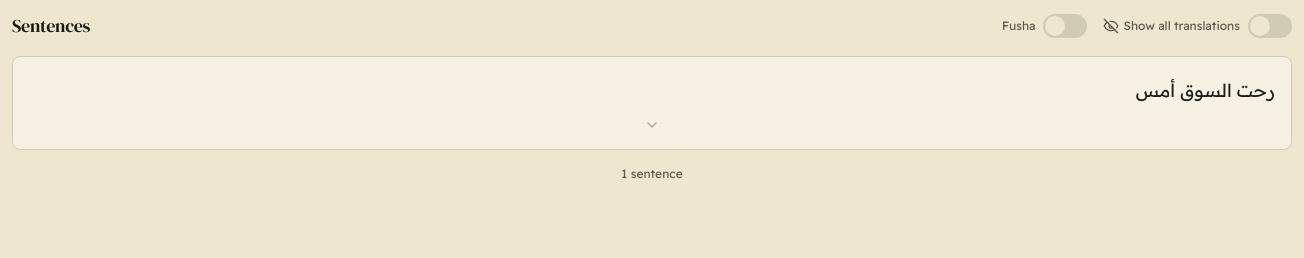
it: the Fusha line › shows the stored rendering next to the dialect line
Click the switch named "Show Fusha (MSA) line". click: (1066, 26)
box: left=1044, top=14, right=1088, bottom=38
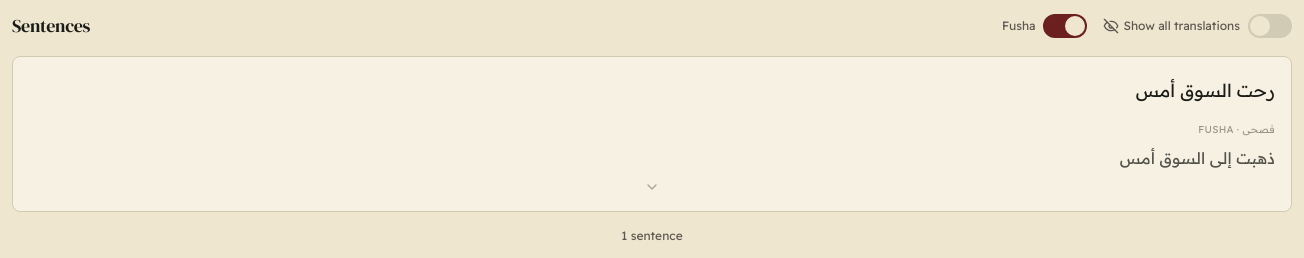
expect the text "ذهبت إلى السوق أمس" is shown: met, box left=1120, top=148, right=1275, bottom=168
